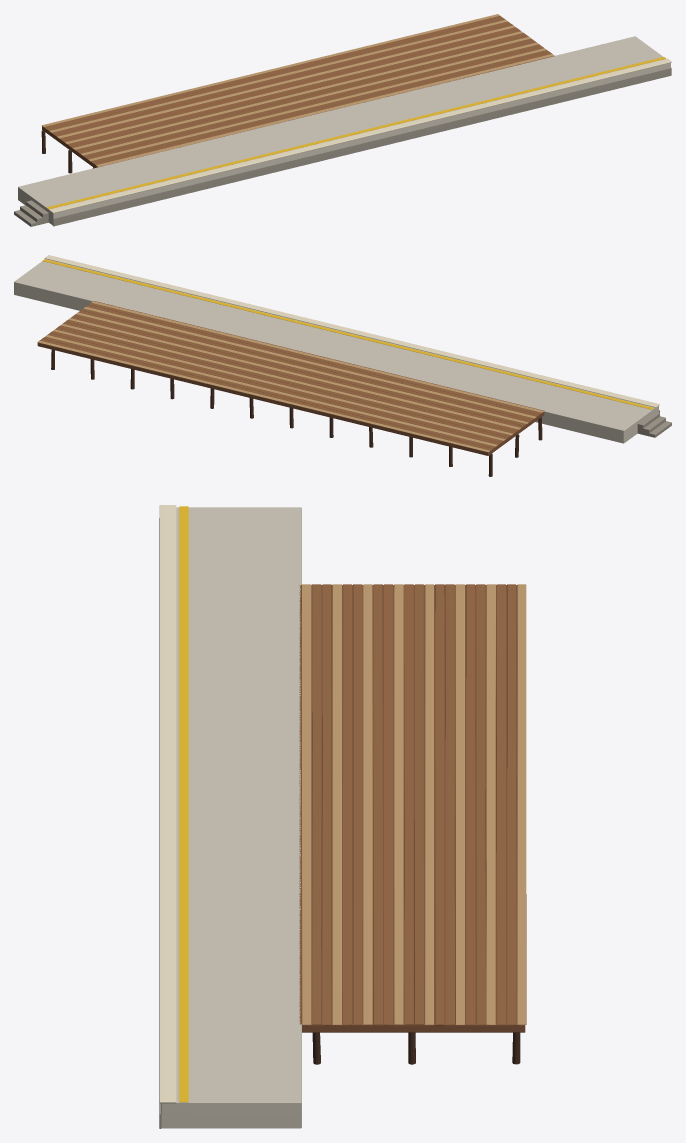
Rendered from platform.glb.
3 views of the same model, one above another, from view 1: azimuth 30°, elevation 25°; view 2: azimuth 150°, elevation 25°; view 3: azimuth 270°, elevation 25° (orthographic). The views are drawn at different scales.
Visible parts, largest first — view 1: platform.001, deck, platform_base, coping, tactile, deck_plank.009, deck_plank, deck_plank.007, deck_plank.010, deck_plank.006, deck_plank.013, deck_plank.015 (+15 smaller); view 2: platform.001, deck, coping, tactile, deck_plank.021, deck_plank.010, deck_plank.003, deck_plank.009, deck_plank.018, deck_plank.007, deck_plank.008, deck_plank.006 (+14 smaller); view 3: platform.001, deck, coping, tactile, deck_plank, deck_plank.013, deck_plank.002, deck_plank.003, deck_plank.015, deck_plank.021, deck_plank.007, deck_plank.005 (+14 smaller).
Part boxes in pixels (left/top/right/bottom): platform.001: left=18, top=36, right=670, bottom=225; deck: left=42, top=16, right=554, bottom=167; platform_base: left=53, top=67, right=671, bottom=226; coping: left=49, top=58, right=671, bottom=213; tactile: left=46, top=57, right=665, bottom=209; deck_plank.009: left=72, top=37, right=530, bottom=149; deck_plank: left=96, top=54, right=554, bottom=166; deck_plank.007: left=78, top=40, right=536, bottom=153; deck_plank.010: left=70, top=35, right=528, bottom=147; deck_plank.006: left=80, top=42, right=538, bottom=155; deck_plank.013: left=62, top=29, right=520, bottom=142; deck_plank.015: left=57, top=25, right=515, bottom=138; platform.001: left=14, top=259, right=658, bottom=443; deck: left=37, top=301, right=544, bottom=455; coping: left=44, top=255, right=659, bottom=407; tactile: left=42, top=259, right=654, bottom=409; deck_plank.021: left=37, top=340, right=489, bottom=452; deck_plank.010: left=66, top=320, right=518, bottom=431; deck_plank.003: left=84, top=307, right=536, bottom=418; deck_plank.009: left=68, top=318, right=520, bottom=429; deck_plank.018: left=45, top=335, right=497, bottom=446; deck_plank.007: left=73, top=314, right=525, bottom=425; deck_plank.008: left=71, top=316, right=523, bottom=427; deck_plank.006: left=76, top=312, right=528, bottom=424; platform.001: left=161, top=507, right=301, bottom=1128; deck: left=299, top=585, right=525, bottom=1032; coping: left=159, top=505, right=176, bottom=1103; tactile: left=179, top=506, right=188, bottom=1102; deck_plank: left=301, top=584, right=311, bottom=1025; deck_plank.013: left=435, top=584, right=444, bottom=1025; deck_plank.002: left=322, top=584, right=331, bottom=1025; deck_plank.003: left=332, top=584, right=341, bottom=1025; deck_plank.015: left=455, top=584, right=464, bottom=1025; deck_plank.021: left=517, top=584, right=526, bottom=1025; deck_plank.007: left=373, top=584, right=382, bottom=1025; deck_plank.005: left=353, top=584, right=362, bottom=1024.
Bounding box in the file's own units: 47.37 × 1.91 × 11.99.
